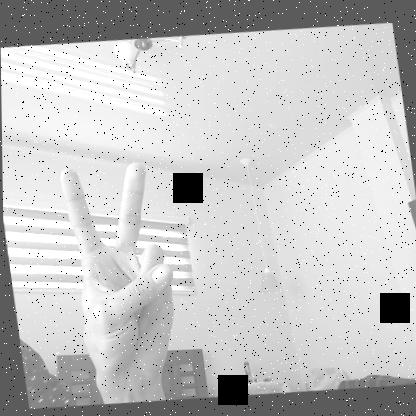V: (56, 148, 187, 392)
